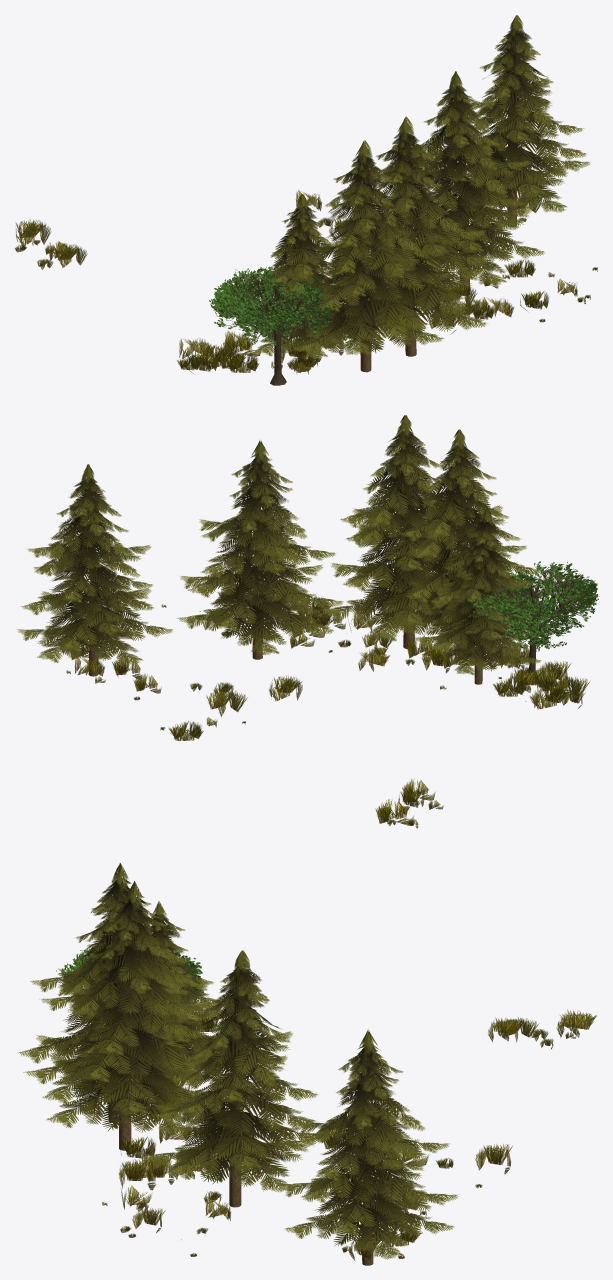
3 renders of one model, top to bottom at view 1: azimuth 30°, elevation 25°; view 2: azimuth 150°, elevation 25°; view 3: azimuth 270°, elevation 25°, orthographic. The views are drawn at different scales.
Visible parts, largest first — view 1: Low Poly Stylized 2D Grass.1518; view 2: Low Poly Stylized 2D Grass.1518; view 3: Low Poly Stylized 2D Grass.1518.
Boxes of the visible parts, <box> form: Low Poly Stylized 2D Grass.1518: <box>15,15,597,385</box>; Low Poly Stylized 2D Grass.1518: <box>17,415,598,828</box>; Low Poly Stylized 2D Grass.1518: <box>17,863,596,1265</box>.
Size of the model in its own units: 26.07 by 12.24 by 24.26.
5 materials, 4 textured.
